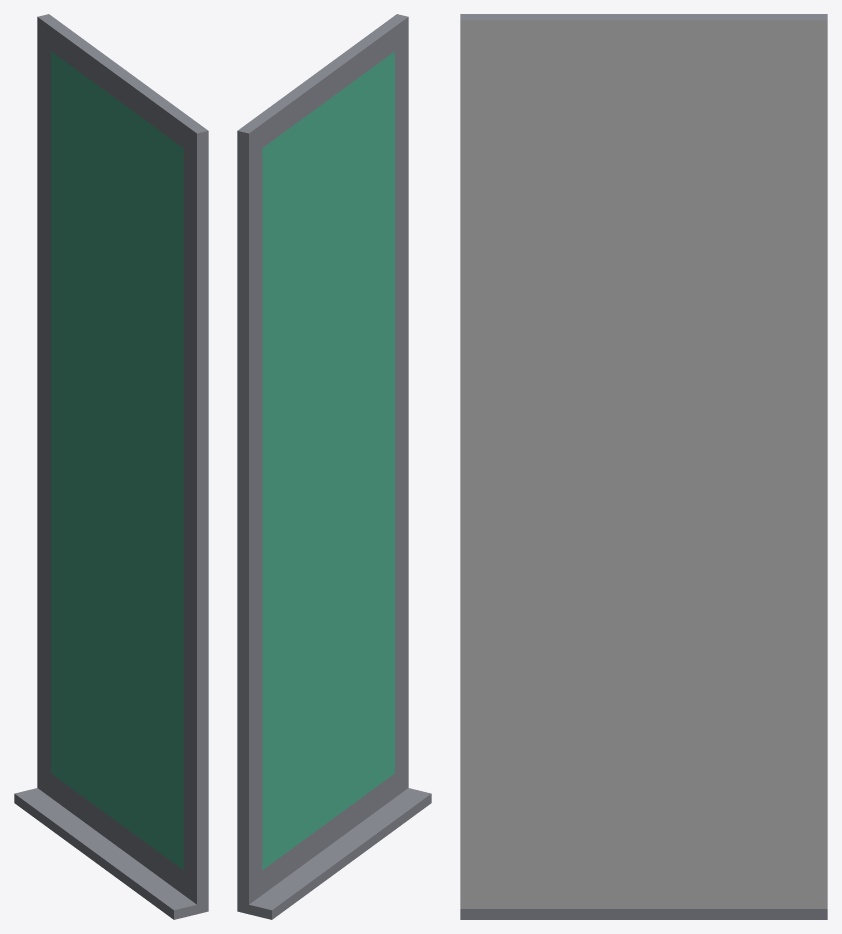
Rendered from sign_billboard.obj.
3 views of the same model, side by side, from view 1: azimuth 30°, elevation 25°; view 2: azimuth 150°, elevation 25°; view 3: azimuth 270°, elevation 25° (orthographic). The views are drawn at different scales.
Visible parts, largest first — view 1: sign_billboard; view 2: sign_billboard; view 3: sign_billboard.
Boxes of the visible parts, left/top/right/bottom form: sign_billboard: left=14, top=14, right=208, bottom=919; sign_billboard: left=237, top=14, right=431, bottom=919; sign_billboard: left=460, top=14, right=827, bottom=919.
Size of the model in its own units: 0.075 by 1.62 by 0.6.
